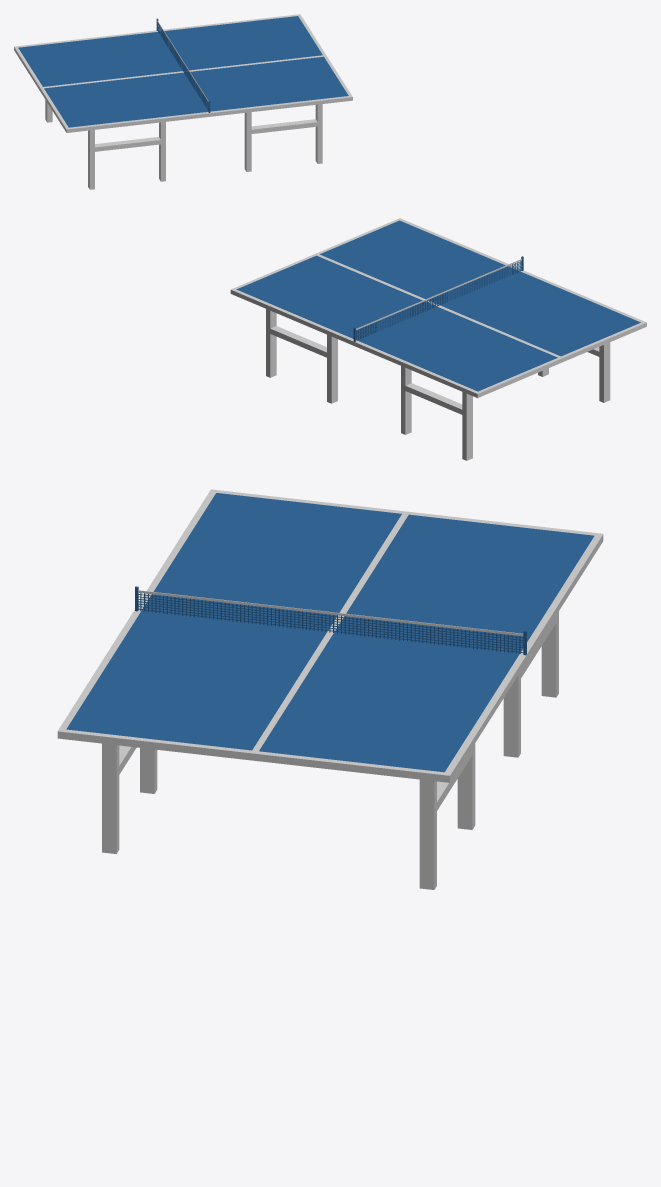
The model's file is low_table.glb.
The picture shows the model from 3 angles, top to bottom: view 1: azimuth 30°, elevation 25°; view 2: azimuth 150°, elevation 25°; view 3: azimuth 270°, elevation 25°; orthographic projection. The views are drawn at different scales.
Visible parts, largest first — view 1: Box123, Box158, Box166, Box156, Box146, Box157, Box161; view 2: Box123, Box165, Box153, Box124, Box157, Box159, Box151, Box160, Box163; view 3: Box123, Box124, Box146, Box159, Box163, Box165, Box153.
Boxes of the visible parts, x1,y1,x2,y2 form: Box123: [14, 14, 352, 132]; Box158: [251, 119, 317, 133]; Box166: [92, 137, 160, 151]; Box156: [244, 112, 251, 171]; Box146: [315, 104, 322, 163]; Box157: [88, 130, 94, 189]; Box161: [159, 122, 165, 181]; Box123: [230, 218, 646, 398]; Box165: [327, 334, 337, 403]; Box153: [462, 392, 472, 460]; Box124: [266, 309, 276, 377]; Box157: [599, 342, 610, 402]; Box159: [401, 366, 411, 434]; Box151: [402, 383, 464, 415]; Box160: [270, 326, 326, 357]; Box163: [356, 259, 521, 330]; Box123: [57, 489, 603, 782]; Box124: [419, 779, 436, 889]; Box146: [102, 743, 119, 853]; Box159: [503, 671, 520, 757]; Box163: [138, 590, 523, 636]; Box165: [457, 743, 475, 829]; Box153: [541, 611, 558, 697].
Bounding box in the file's own units: 1023414 × 142891 × 433021.
